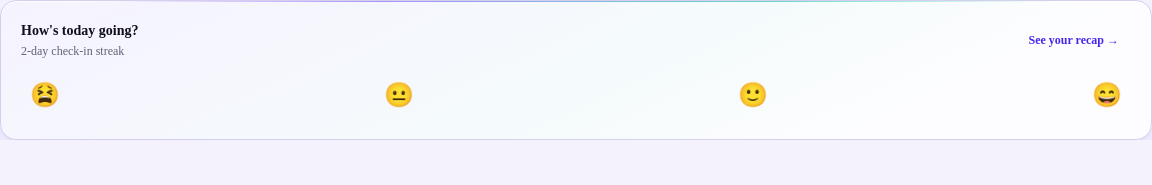
Test: MoodCheckInCard › streak › grows when today is logged on top of a running streak
Click the button named "Good" at (753, 95), box [729,71,777,119]
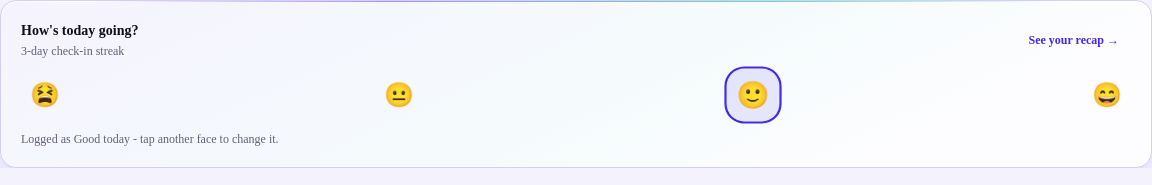
Now the text "3-day check-in streak" is shown, box [21,43,138,59]
